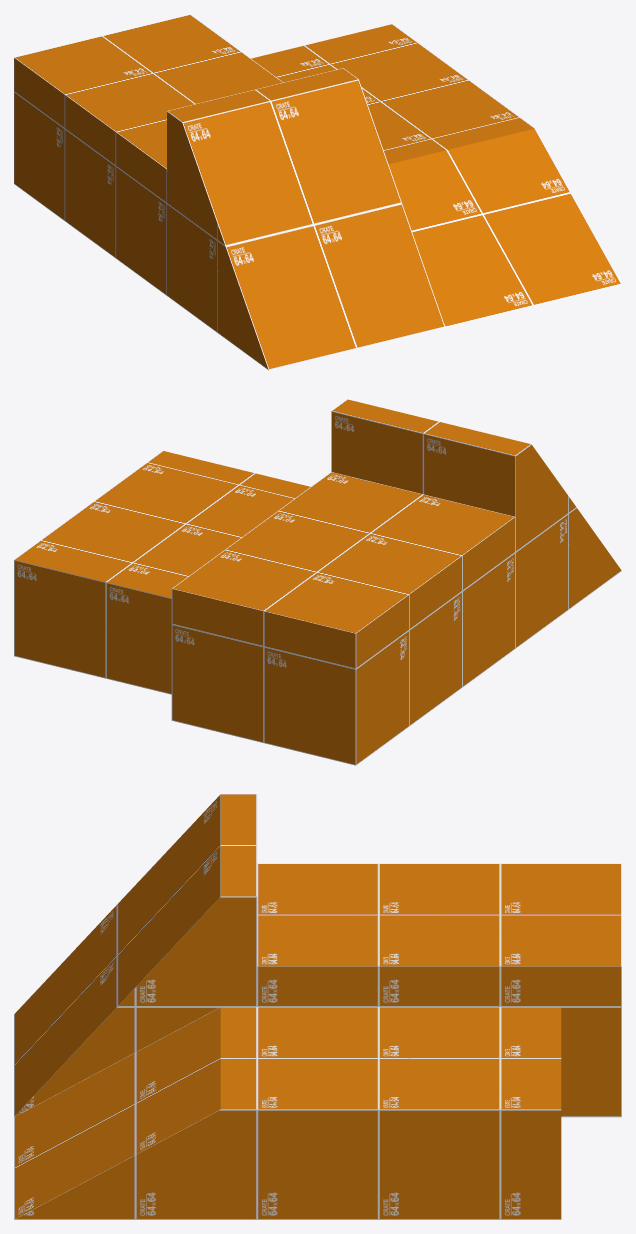
The model's file is ramp.obj.
3 renders of one model, top to bottom at view 1: azimuth 30°, elevation 25°; view 2: azimuth 150°, elevation 25°; view 3: azimuth 270°, elevation 25°, orthographic. The views are drawn at different scales.
Visible parts, largest first — view 1: Cube; view 2: Cube; view 3: Cube.
Part boxes in pixels (<box>): Cube: <box>14,14,621,370</box>; Cube: <box>14,399,621,765</box>; Cube: <box>14,794,621,1219</box>.
Size of the model in its own units: 4 by 2 by 5.
